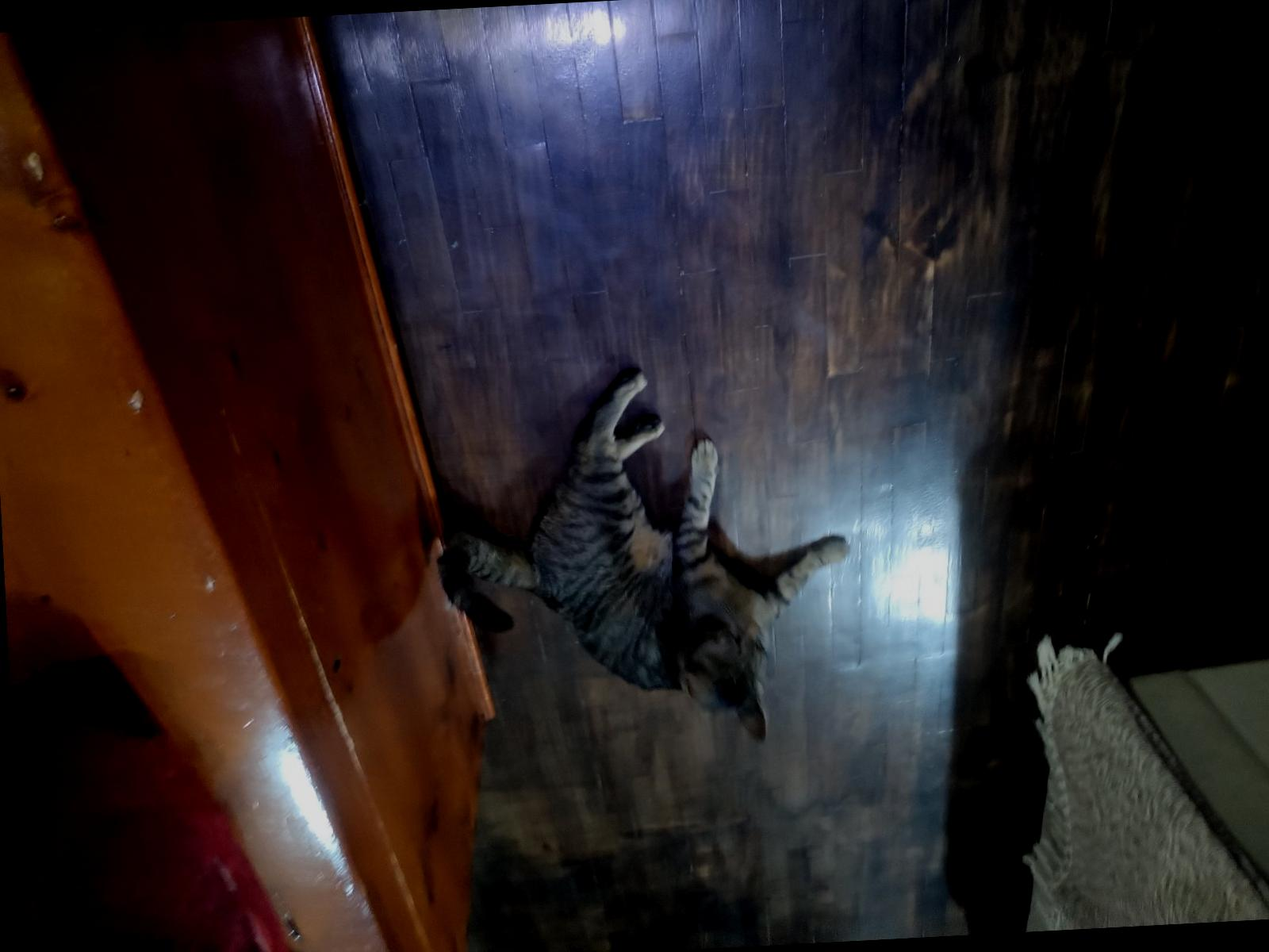macka: (421, 353, 859, 759)
